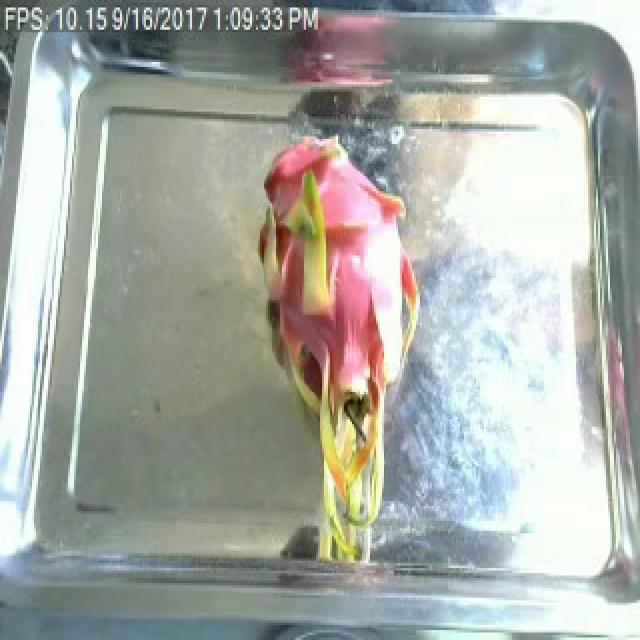fruit: (238, 134, 428, 580)
